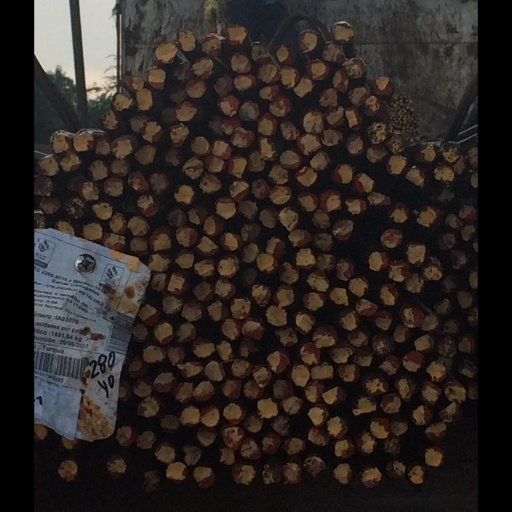dipstick: (338, 335, 367, 361), (361, 86, 389, 110), (114, 143, 143, 166), (396, 392, 425, 414), (78, 231, 107, 253), (222, 21, 248, 45), (388, 307, 415, 330), (343, 217, 371, 239), (269, 161, 297, 183), (395, 282, 421, 305), (387, 331, 413, 354), (116, 426, 142, 449), (241, 319, 268, 341), (464, 401, 491, 423), (311, 59, 339, 80), (452, 420, 480, 441), (357, 194, 385, 215), (277, 326, 306, 346), (300, 310, 324, 334), (119, 193, 144, 216), (442, 206, 467, 229), (406, 153, 432, 175), (432, 403, 458, 425), (302, 31, 329, 52), (176, 137, 203, 158), (181, 465, 208, 486), (329, 127, 356, 148), (138, 43, 166, 63), (270, 183, 298, 203), (366, 395, 394, 415), (208, 196, 231, 220), (384, 248, 408, 271), (258, 206, 282, 229), (341, 23, 370, 42), (163, 29, 188, 51), (359, 57, 384, 79), (357, 134, 382, 156), (17, 132, 43, 153), (298, 167, 324, 188), (329, 189, 355, 210), (302, 133, 329, 153), (308, 291, 335, 311), (320, 328, 347, 348), (138, 371, 165, 391), (182, 336, 209, 356), (214, 320, 241, 340), (334, 386, 362, 405), (336, 414, 359, 437), (400, 228, 424, 250), (345, 462, 369, 484), (295, 363, 319, 385), (87, 137, 112, 158), (115, 89, 140, 110), (469, 141, 494, 162), (137, 322, 162, 343), (216, 426, 241, 447), (166, 406, 191, 427), (252, 364, 277, 385), (485, 288, 510, 309), (444, 381, 469, 402), (170, 158, 196, 178), (256, 397, 282, 417), (312, 456, 338, 476), (293, 226, 319, 246), (240, 413, 266, 433), (426, 350, 452, 370), (106, 215, 133, 234), (266, 307, 293, 326), (148, 294, 175, 313), (364, 274, 387, 296), (225, 356, 248, 378), (45, 131, 69, 152), (122, 121, 146, 142), (26, 458, 50, 479), (229, 73, 254, 93), (408, 202, 433, 222), (383, 376, 408, 396), (229, 126, 254, 146), (154, 125, 179, 145), (173, 77, 198, 97), (203, 140, 229, 159), (234, 102, 260, 121), (410, 264, 437, 282), (80, 458, 107, 476), (250, 284, 272, 306), (130, 67, 153, 88), (126, 344, 149, 365), (261, 431, 284, 452), (80, 175, 103, 196), (316, 406, 340, 426), (399, 356, 423, 376), (197, 361, 222, 380), (119, 398, 144, 417), (114, 377, 139, 396), (374, 467, 400, 485), (164, 225, 186, 246), (325, 253, 347, 274), (191, 32, 214, 52), (211, 94, 234, 114), (160, 184, 183, 204), (270, 352, 293, 372), (489, 203, 512, 223), (184, 60, 208, 79), (328, 88, 352, 107), (66, 200, 90, 219), (53, 223, 77, 242), (216, 232, 240, 251), (130, 253, 154, 272), (429, 463, 453, 482), (388, 418, 412, 437), (216, 379, 240, 398), (144, 414, 168, 433), (3, 156, 27, 175), (449, 448, 474, 466), (352, 364, 378, 381), (282, 465, 308, 482), (302, 248, 323, 269), (181, 280, 202, 301), (225, 52, 248, 71), (392, 75, 415, 94), (136, 231, 159, 250), (229, 463, 252, 482), (117, 305, 140, 324), (8, 194, 32, 212), (170, 304, 197, 320), (322, 235, 346, 253), (87, 93, 112, 110), (196, 156, 221, 173), (289, 437, 314, 454), (225, 181, 245, 202), (96, 428, 117, 448), (283, 208, 304, 228), (165, 102, 187, 121), (309, 114, 331, 133), (257, 115, 279, 134), (429, 245, 451, 264), (189, 237, 211, 256), (343, 287, 365, 306), (424, 308, 446, 327), (218, 404, 240, 423), (224, 158, 243, 180), (474, 385, 500, 401), (352, 312, 375, 330), (441, 334, 464, 352), (184, 381, 207, 399), (29, 155, 53, 172), (154, 274, 178, 291), (405, 460, 429, 477), (465, 338, 489, 355), (385, 125, 409, 142), (186, 430, 211, 446), (371, 172, 392, 191), (227, 298, 248, 317), (281, 68, 303, 86), (459, 166, 485, 181), (62, 158, 82, 177), (213, 256, 232, 276), (163, 251, 184, 269), (453, 362, 474, 380), (464, 231, 485, 249), (133, 274, 155, 291), (186, 260, 209, 276), (346, 164, 365, 183), (154, 460, 173, 479), (192, 406, 211, 425), (258, 253, 278, 271), (273, 95, 294, 112), (283, 150, 304, 167), (346, 439, 368, 455), (140, 445, 160, 462), (240, 243, 257, 262), (207, 280, 227, 296), (348, 261, 368, 277), (54, 183, 73, 199), (448, 264, 467, 279), (490, 225, 509, 240), (476, 213, 494, 228)
